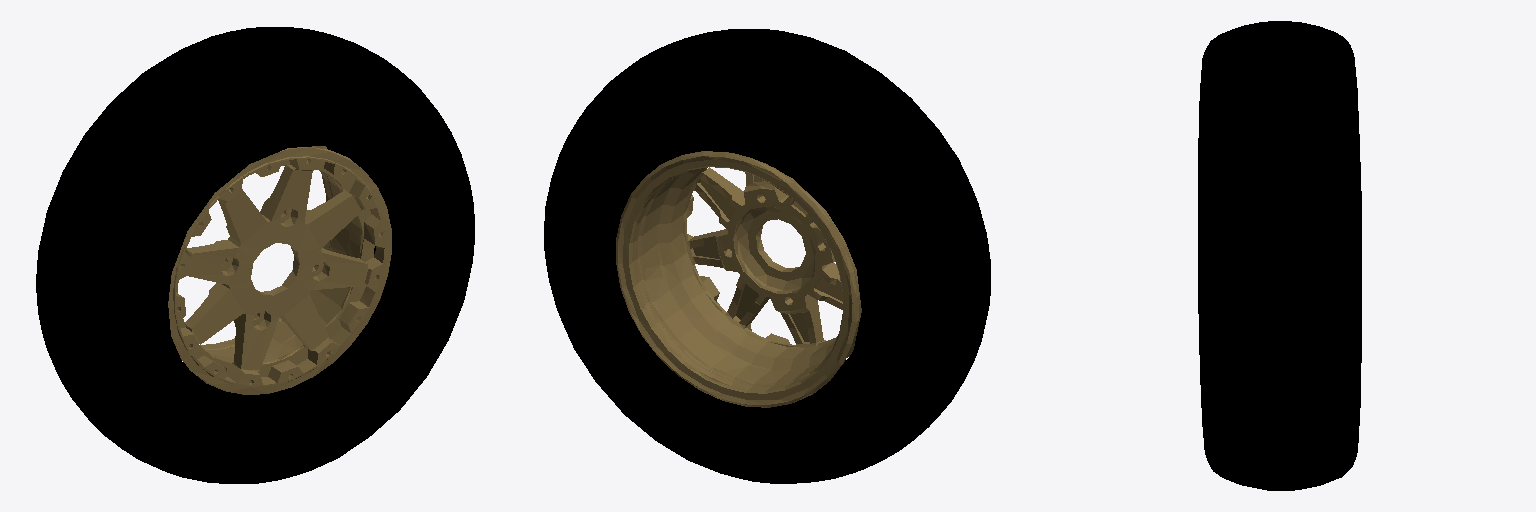
The model's file is mrzr_single_wheel.obj.
3 views of the same model, side by side, from view 1: azimuth 30°, elevation 25°; view 2: azimuth 150°, elevation 25°; view 3: azimuth 270°, elevation 25° (orthographic).
Parts seen in each view (by area): view 1: Wheel; view 2: Wheel; view 3: Wheel.
Boxes of the visible parts, x1=… form: Wheel: x1=36, y1=27, x2=474, y2=483; Wheel: x1=544, y1=29, x2=990, y2=483; Wheel: x1=1198, y1=21, x2=1361, y2=490.
Size of the model in its own units: 0.6632 by 0.6634 by 0.2322.